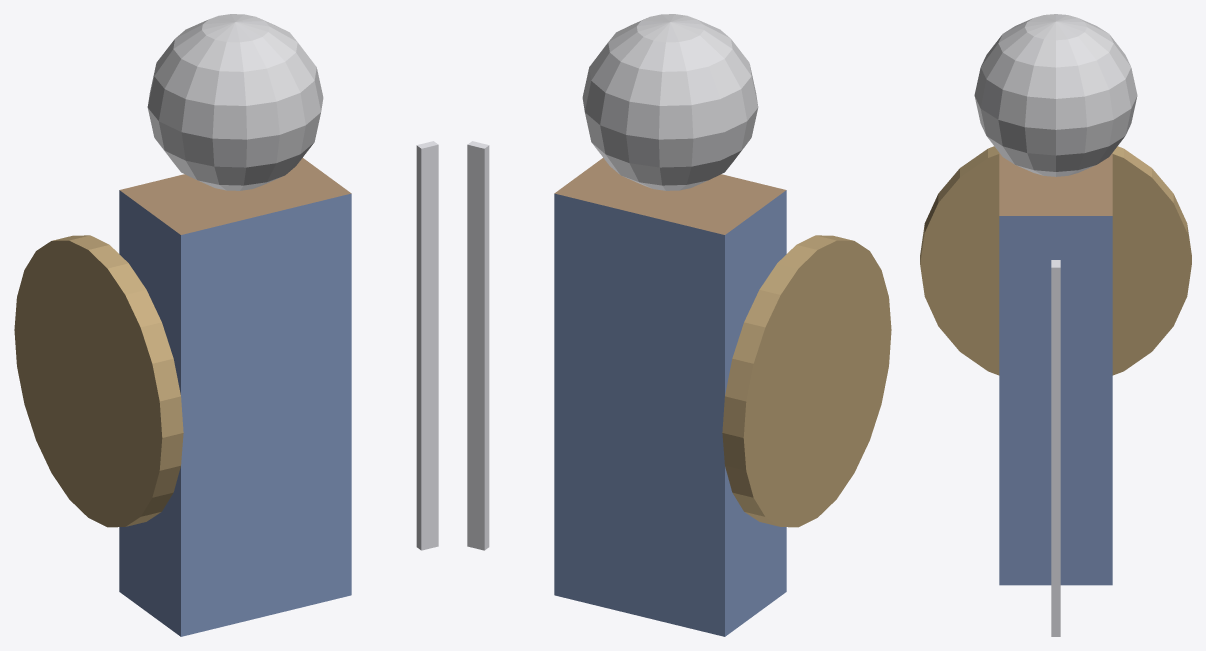
File: parts_set.glb
The picture shows the model from 3 angles, left to right: view 1: azimuth 30°, elevation 25°; view 2: azimuth 150°, elevation 25°; view 3: azimuth 270°, elevation 25°; orthographic projection. The views are drawn at different scales.
Visible parts, largest first — view 1: Body, Shield, Helmet, Sword; view 2: Body, Shield, Helmet, Sword; view 3: Body, Shield, Helmet, Sword.
Part boxes in pixels (left/top/right/bottom): Body: left=119, top=158, right=351, bottom=636; Shield: left=14, top=235, right=183, bottom=527; Helmet: left=147, top=14, right=323, bottom=190; Sword: left=416, top=141, right=438, bottom=550; Body: left=554, top=158, right=786, bottom=636; Shield: left=722, top=235, right=891, bottom=527; Helmet: left=582, top=14, right=758, bottom=190; Sword: left=467, top=141, right=489, bottom=550; Body: left=999, top=153, right=1112, bottom=585; Shield: left=920, top=146, right=1191, bottom=375; Helmet: left=974, top=14, right=1137, bottom=176; Sword: left=1051, top=260, right=1060, bottom=636.
Size of the model in its own units: 0.815 by 1.28 by 0.6.
